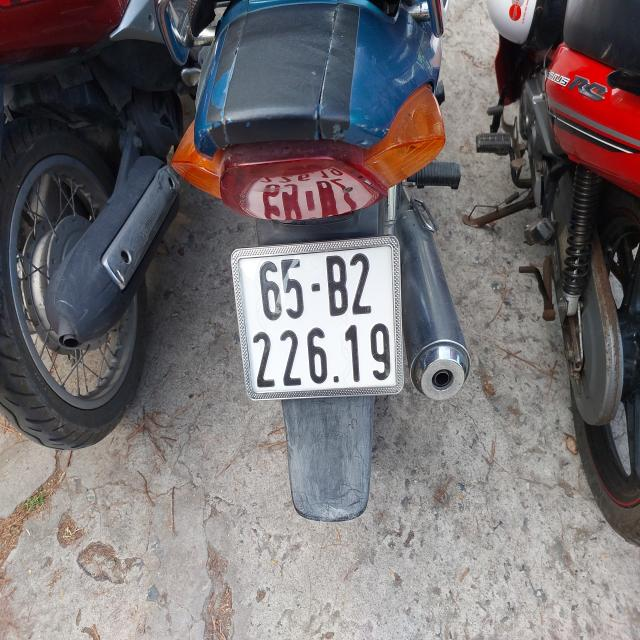1: (343, 324, 363, 382)
2: (351, 252, 372, 315), (280, 327, 302, 386), (253, 330, 275, 388)
5: (281, 256, 305, 321)
6: (258, 260, 282, 321), (306, 324, 328, 384)
9: (369, 322, 391, 381)
B: (325, 256, 349, 318)
